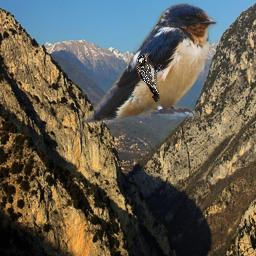Swallow: (79, 2, 219, 126)
Woodpecker: (134, 51, 167, 102)
